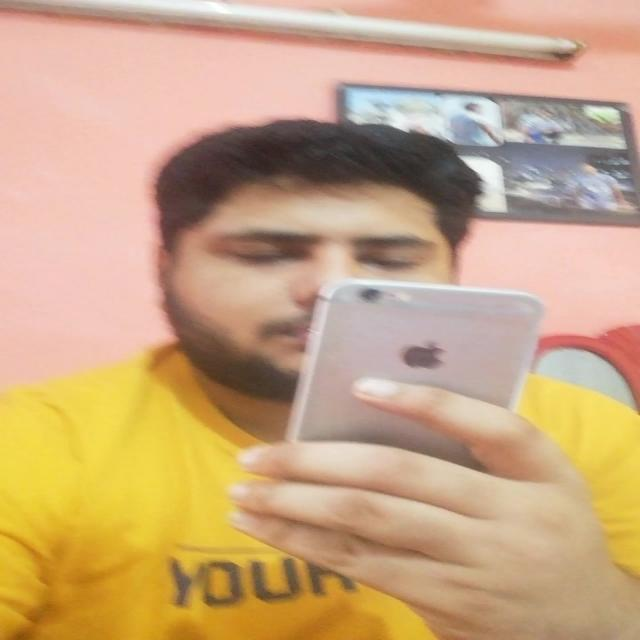Phone: (288, 281, 546, 442)
